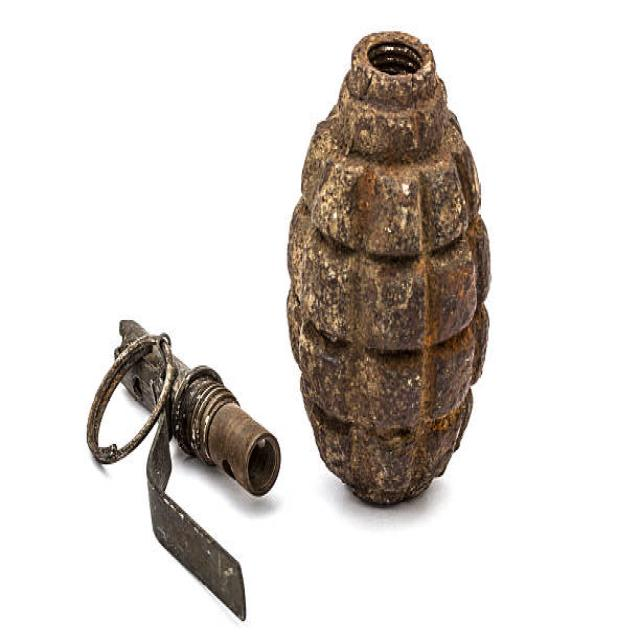grenade: (275, 22, 499, 528)
